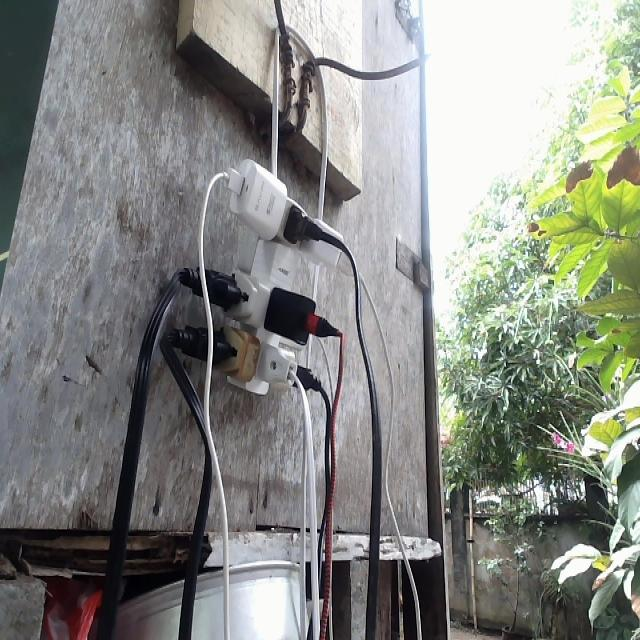-: (192, 154, 340, 398)
